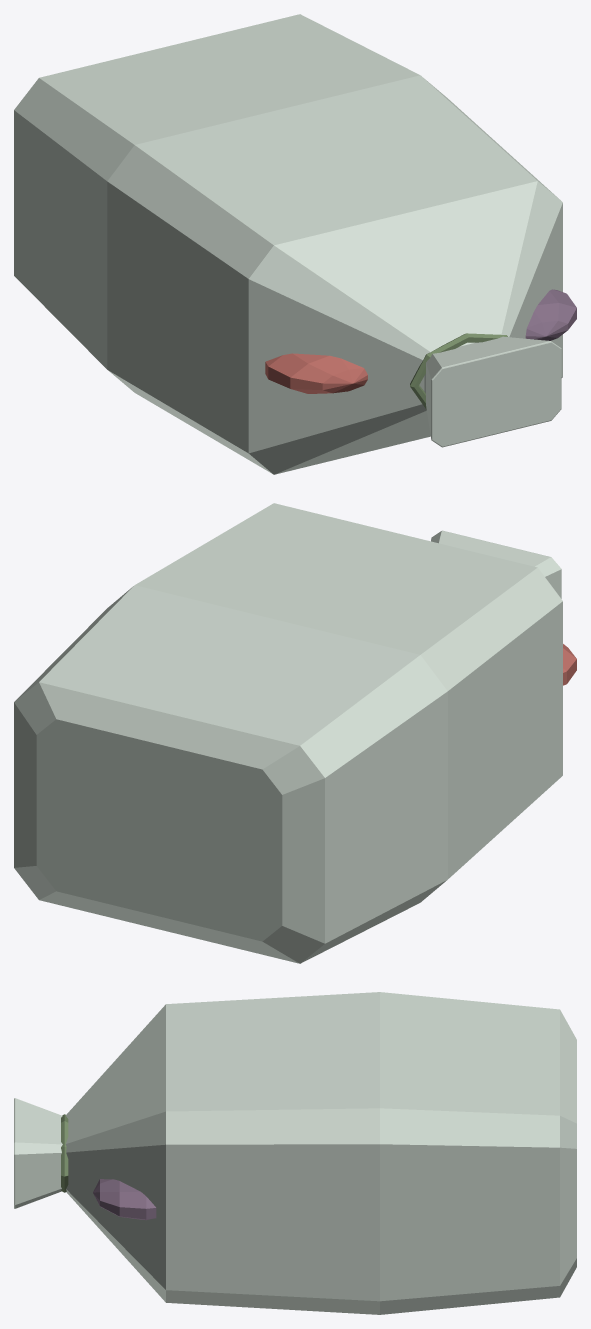
The model's file is lollipops.glb.
3 renders of one model, top to bottom at view 1: azimuth 30°, elevation 25°; view 2: azimuth 150°, elevation 25°; view 3: azimuth 270°, elevation 25°, orthographic. The views are drawn at different scales.
Visible parts, largest first — view 1: lollipops; view 2: lollipops; view 3: lollipops.
Part boxes in pixels (<box>): lollipops: <box>14,14,576,474</box>; lollipops: <box>14,503,576,963</box>; lollipops: <box>14,992,576,1314</box>.
Bounding box in the file's own units: 0.1165 × 0.0853 × 0.2.
